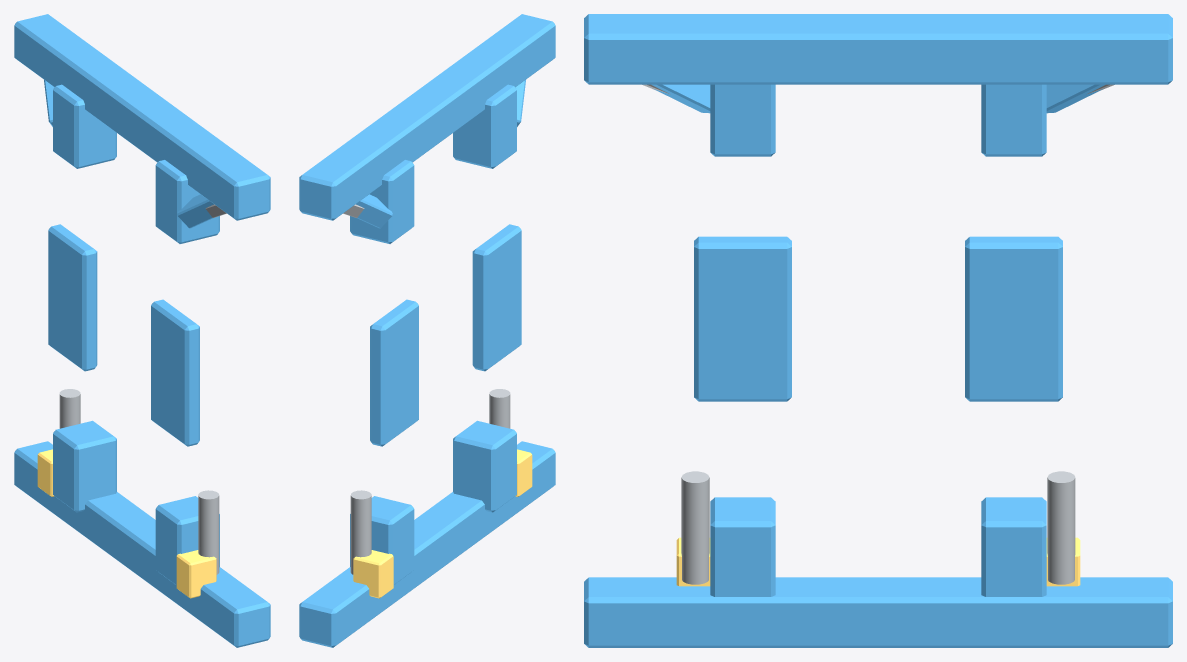
File: mobile-tipper-claws-v5-medium.glb
3 views of the same model, side by side, from view 1: azimuth 30°, elevation 25°; view 2: azimuth 150°, elevation 25°; view 3: azimuth 270°, elevation 25° (orthographic). The views are drawn at different scales.
Parts seen in each view (by area): view 1: mobile-tipper-claws-v5-medium-v5_tilter_blue, mobile-tipper-claws-v5-medium-v5_bulk_silver, mobile-tipper-claws-v5-medium-v5_tilter_yellow; view 2: mobile-tipper-claws-v5-medium-v5_tilter_blue, mobile-tipper-claws-v5-medium-v5_bulk_silver, mobile-tipper-claws-v5-medium-v5_tilter_yellow; view 3: mobile-tipper-claws-v5-medium-v5_tilter_blue, mobile-tipper-claws-v5-medium-v5_bulk_silver, mobile-tipper-claws-v5-medium-v5_tilter_yellow.
Boxes of the visible parts, x1,y1,x2,y2 form: mobile-tipper-claws-v5-medium-v5_tilter_blue: (14, 14, 270, 647); mobile-tipper-claws-v5-medium-v5_bulk_silver: (59, 204, 226, 574); mobile-tipper-claws-v5-medium-v5_tilter_yellow: (37, 449, 216, 598); mobile-tipper-claws-v5-medium-v5_tilter_blue: (299, 14, 555, 647); mobile-tipper-claws-v5-medium-v5_bulk_silver: (343, 204, 510, 574); mobile-tipper-claws-v5-medium-v5_tilter_yellow: (353, 449, 532, 598); mobile-tipper-claws-v5-medium-v5_tilter_blue: (584, 14, 1172, 647); mobile-tipper-claws-v5-medium-v5_bulk_silver: (642, 84, 1114, 584); mobile-tipper-claws-v5-medium-v5_tilter_yellow: (676, 537, 1080, 586).
Size of the model in its own units: 0.311 by 2.9 by 2.52.
